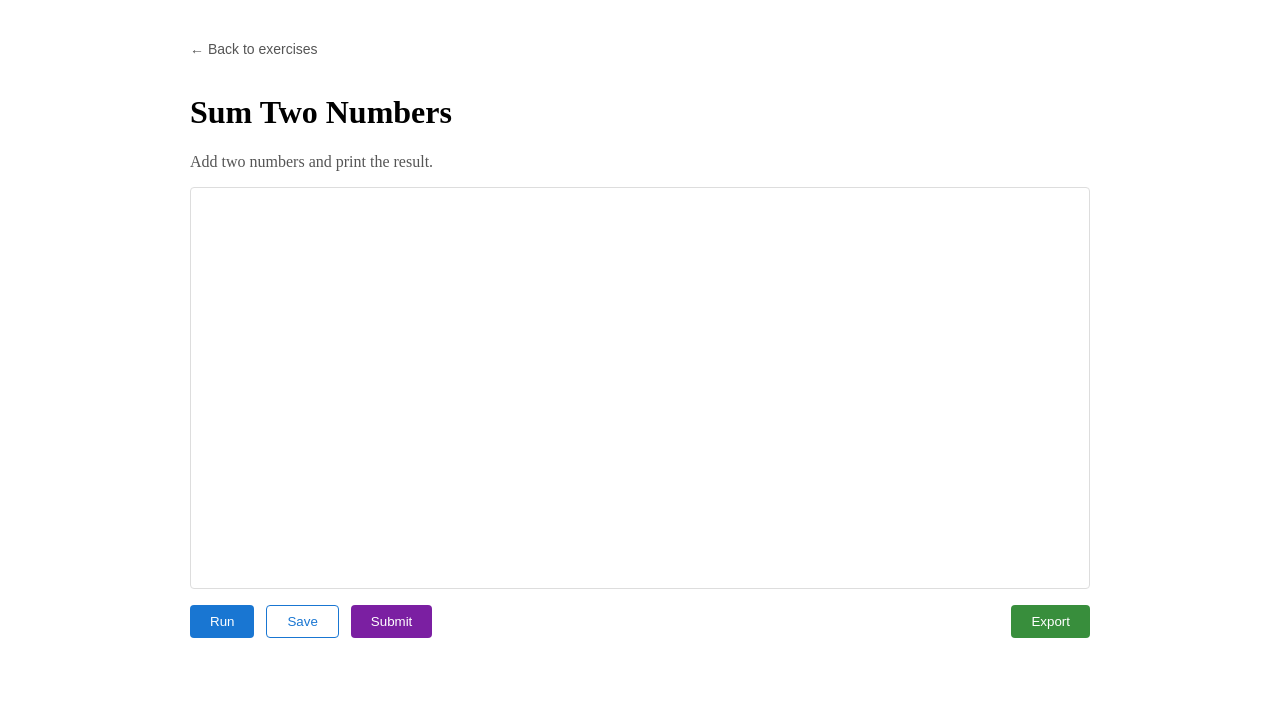
Save and Submit › shows an error modal when submit is rejected (e.g. already graded)
The width and height of the screenshot is (1280, 720).
Click the button "Submit". click: [392, 621]
box: [351,605,432,638]
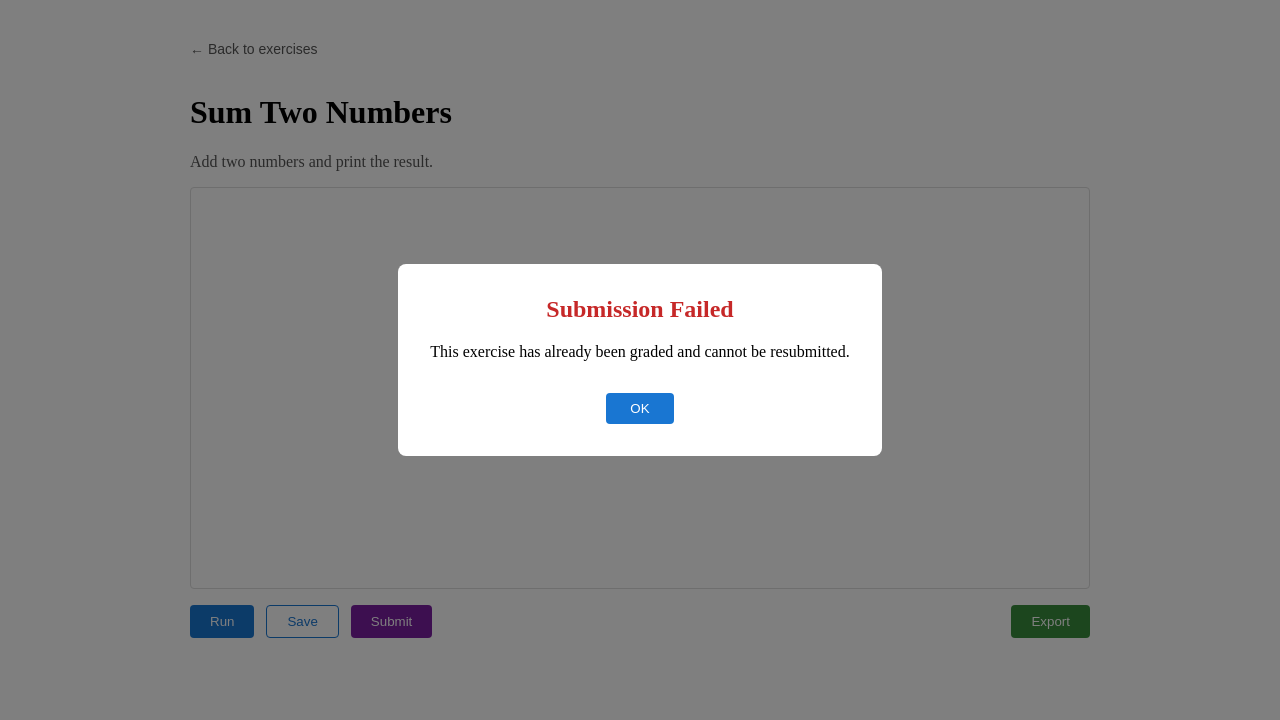
Check: the text "already been graded and cannot be resubmitted" is shown, box [430,343,850,360]
